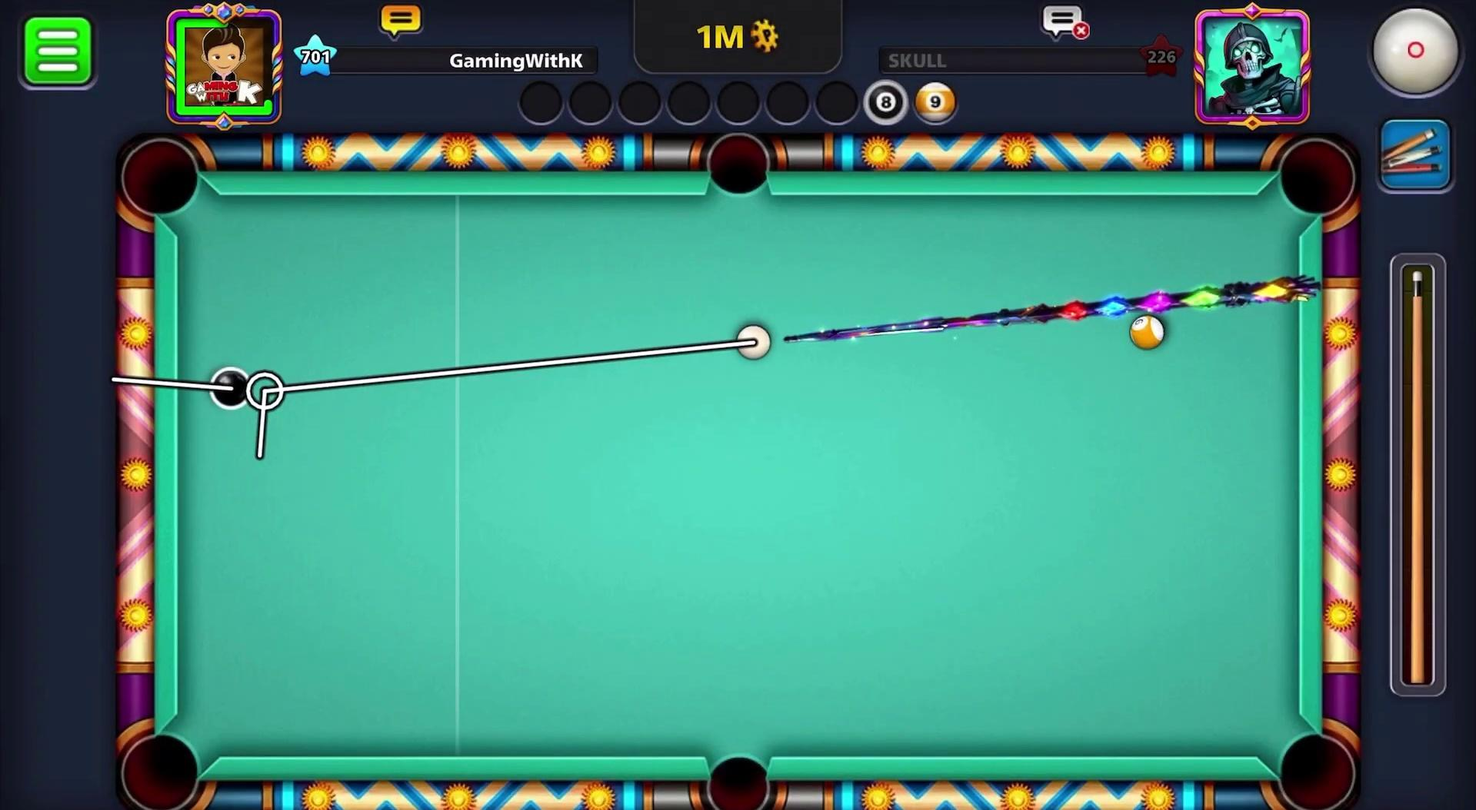Ball: (205, 364, 255, 407), (1128, 314, 1168, 352)
Force: (1385, 251, 1453, 697)
Guideline: (112, 325, 771, 459)
Hole: (108, 126, 213, 229), (1270, 126, 1364, 229), (111, 720, 212, 809), (1265, 719, 1364, 809), (685, 734, 787, 809), (699, 128, 778, 201)
Play_Area: (185, 194, 1318, 760)
Spin: (1345, 1, 1475, 111)
White: (731, 315, 783, 364)
